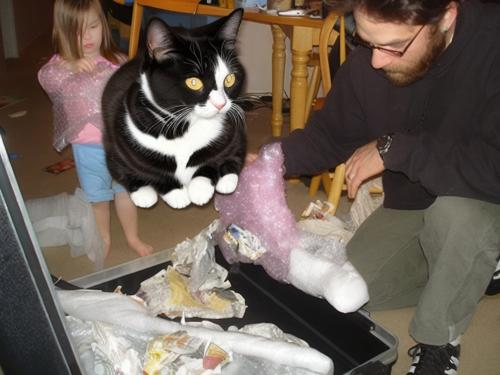cat: (100, 1, 248, 209)
chair: (309, 10, 386, 217)
person: (224, 1, 500, 375), (37, 1, 158, 262)
person/foot: (406, 338, 461, 375), (485, 260, 500, 297), (126, 239, 155, 258)
person/hand: (345, 141, 384, 200), (225, 151, 259, 203), (65, 56, 95, 77), (120, 59, 140, 80)
person/head: (353, 1, 458, 87), (54, 1, 106, 55)
